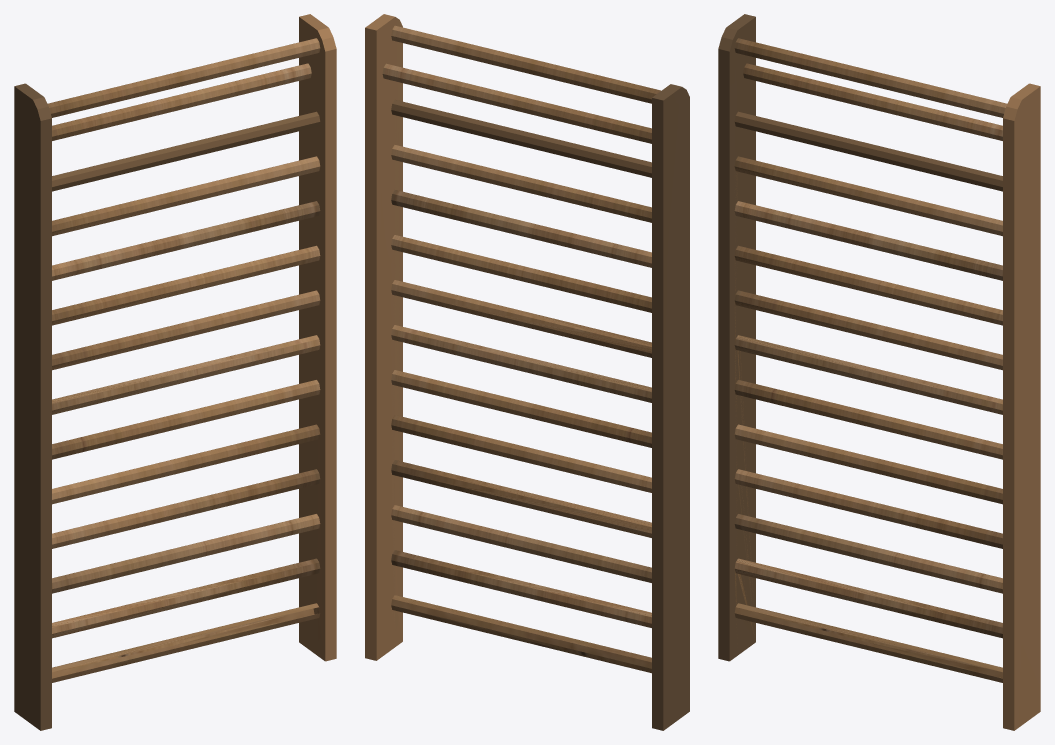
The model's file is bordasfal.fbx.
The picture shows the model from 3 angles, left to right: view 1: azimuth 30°, elevation 25°; view 2: azimuth 150°, elevation 25°; view 3: azimuth 330°, elevation 25°; orthographic projection.
Visible parts, largest first — view 1: bordasfal; view 2: bordasfal; view 3: bordasfal.
Boxes of the visible parts, x1,y1,x2,y2 form: bordasfal: (14,14,336,730); bordasfal: (365,14,689,730); bordasfal: (718,14,1040,730).
Bounding box in the file's own units: 104 × 210 × 16.
Materials: 1 (1 with a texture image).
